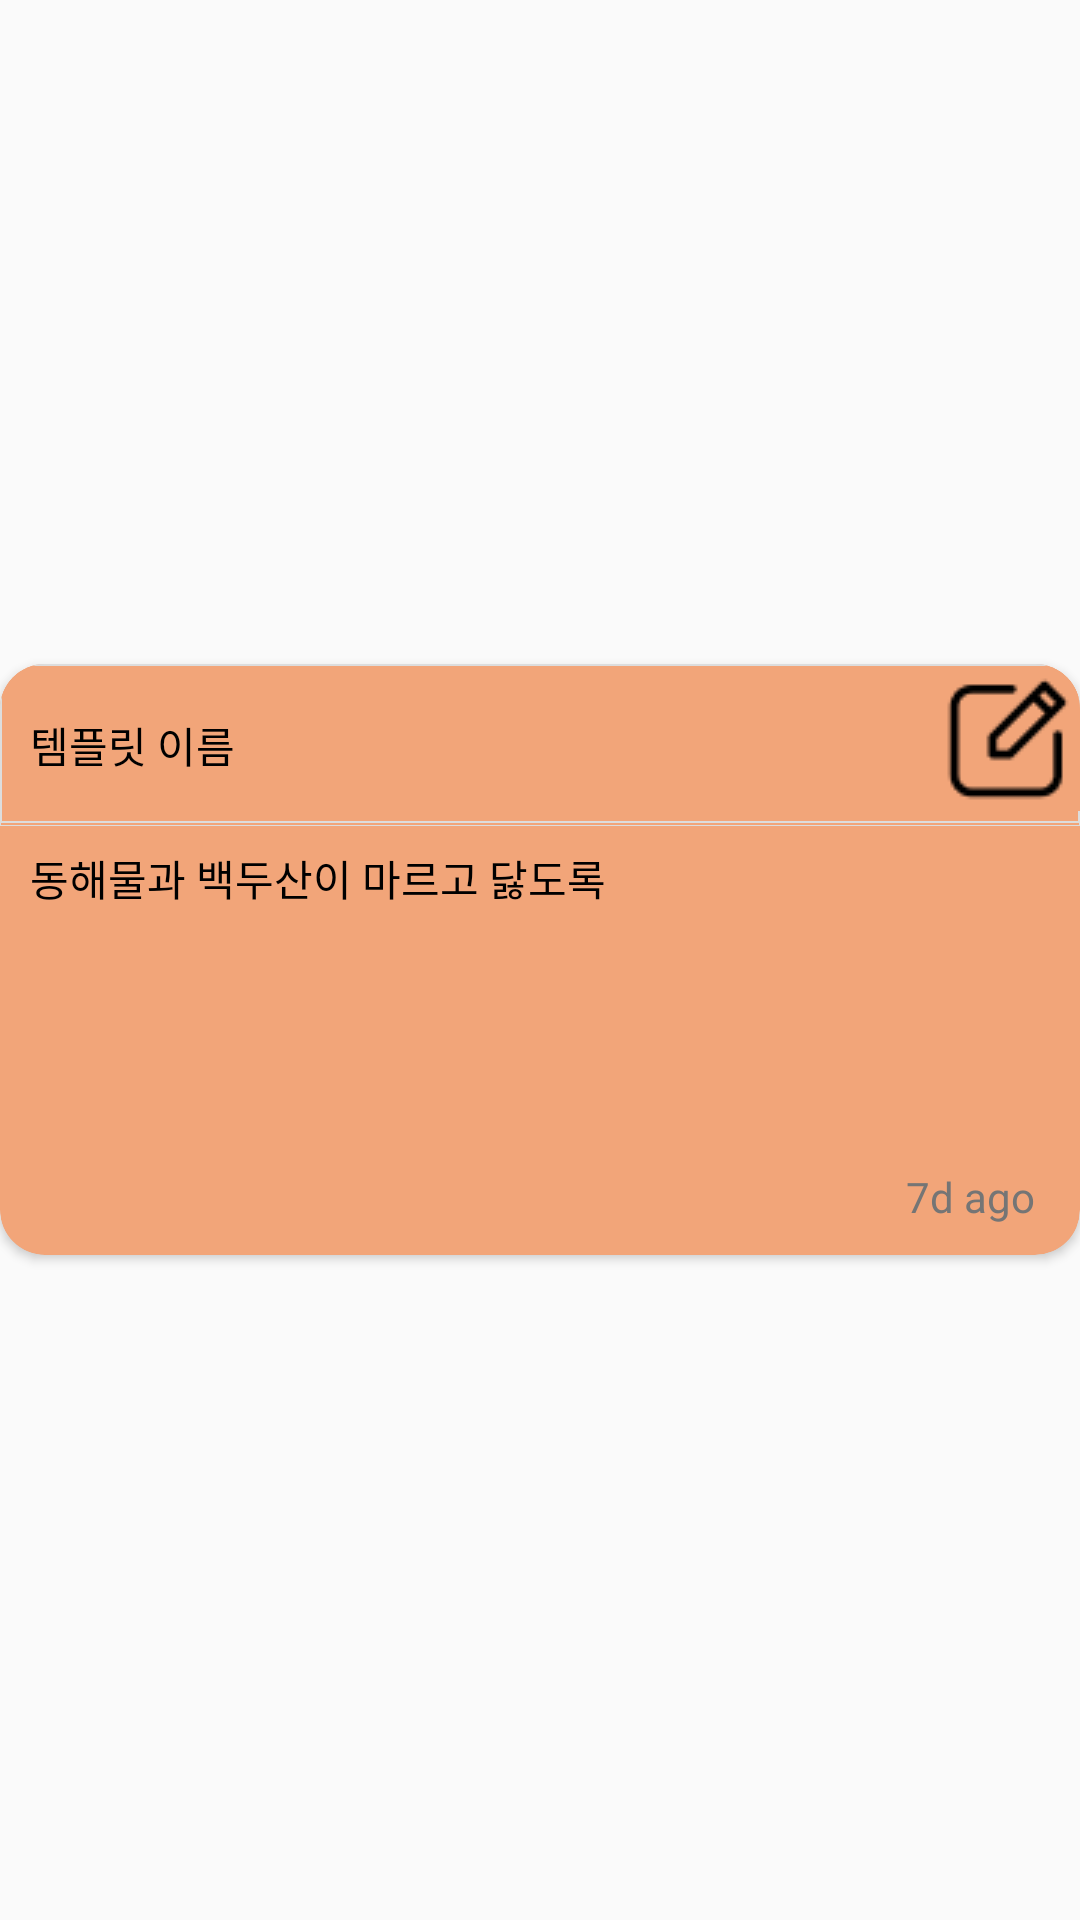

Locate icon controls on the screen. Image size 1080px×1920px, boxes as (x1, y1, x2, y2).
edit: (948, 679, 1068, 799)
